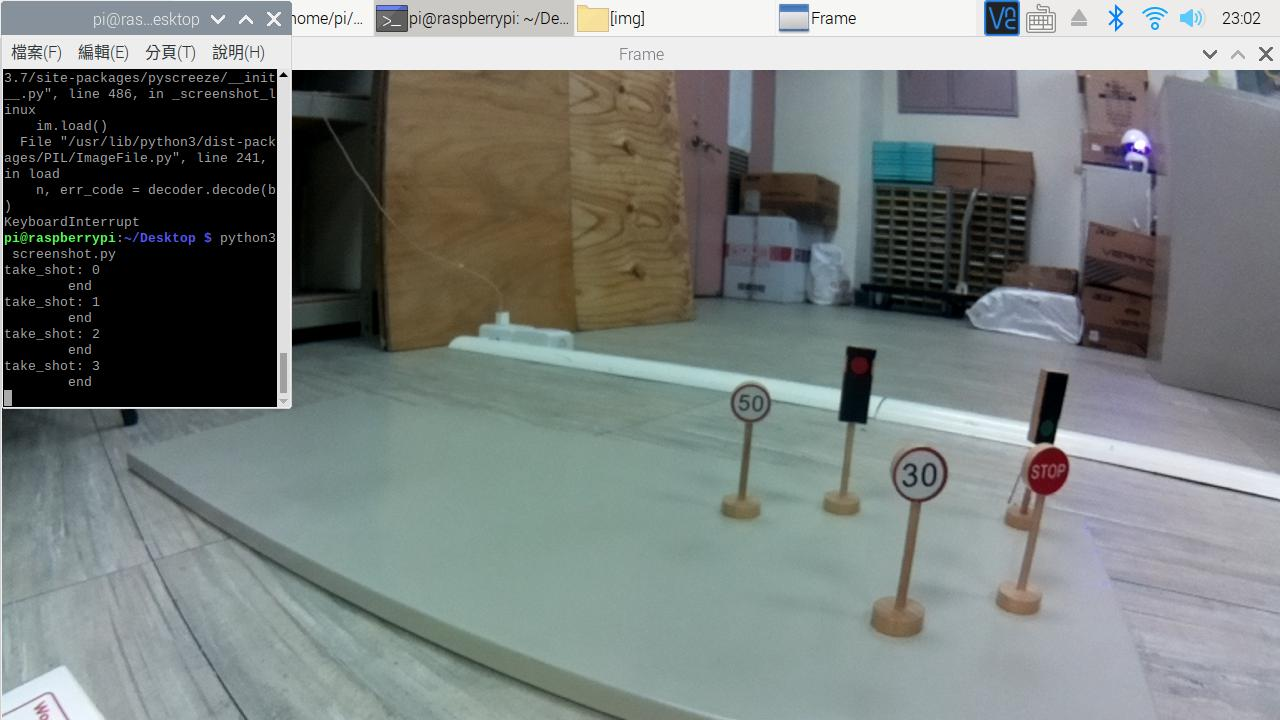Green: (1041, 370, 1061, 442)
Red: (841, 335, 867, 425)
Speed30: (898, 442, 953, 505)
Speed50: (731, 377, 772, 426)
Stop: (1029, 447, 1070, 500)
